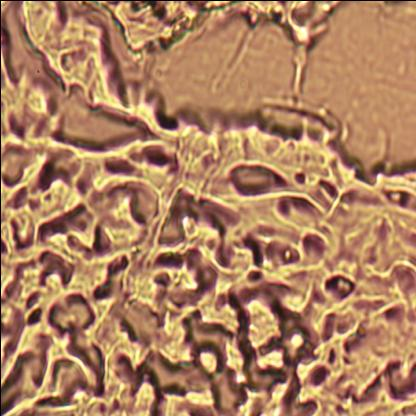Stage I: (0, 114, 416, 416)
